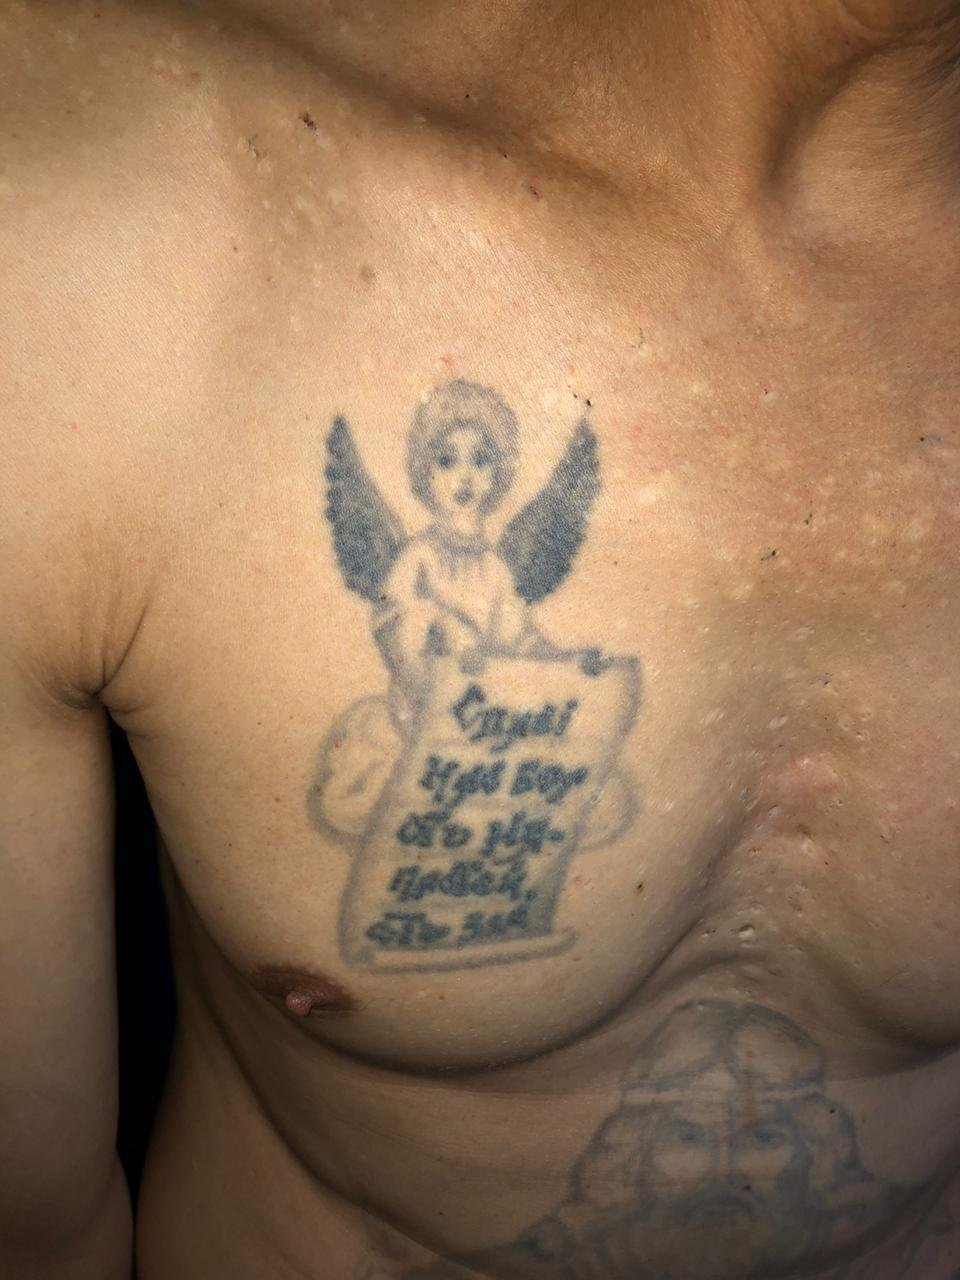tatu1_angel: (322, 363, 599, 642)
tatu3_bukva: (351, 670, 589, 950)
